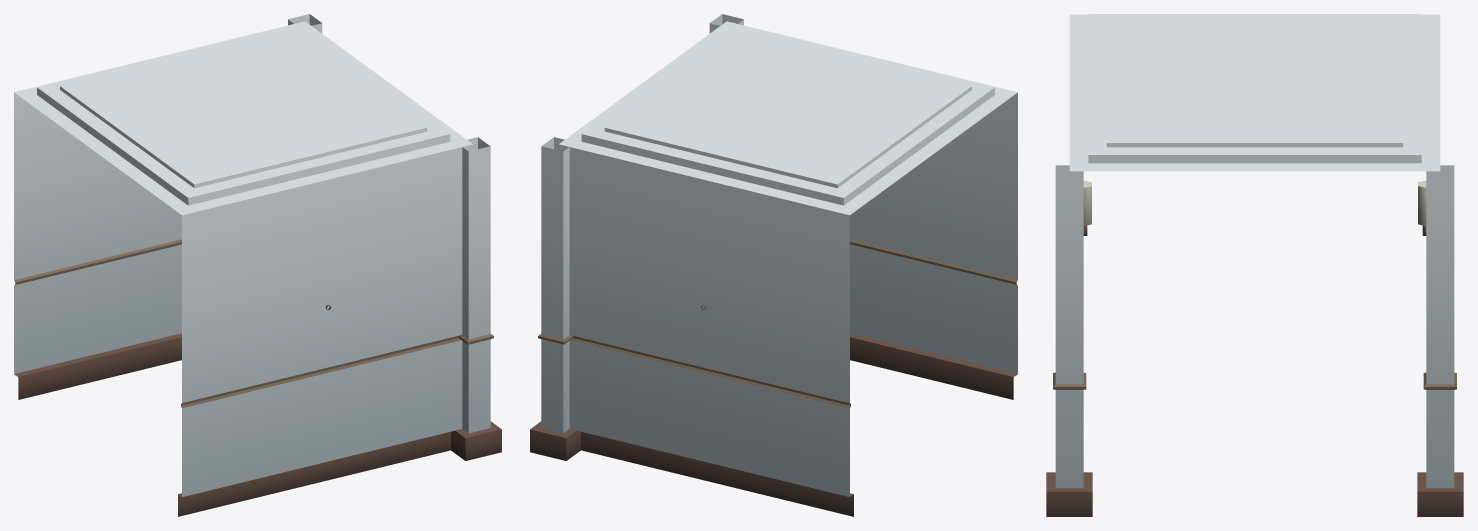
File: Hallway.fbx
3 renders of one model, left to right at view 1: azimuth 30°, elevation 25°; view 2: azimuth 150°, elevation 25°; view 3: azimuth 270°, elevation 25°, orthographic. The views are drawn at different scales.
Visible parts, largest first — view 1: Hallway; view 2: Hallway; view 3: Hallway.
Part boxes in pixels (x1,y1,x2,y2): Hallway: [14, 14, 501, 516]; Hallway: [530, 14, 1017, 516]; Hallway: [1046, 14, 1463, 516].
Bounding box in the file's own units: 319 × 311 × 338.
